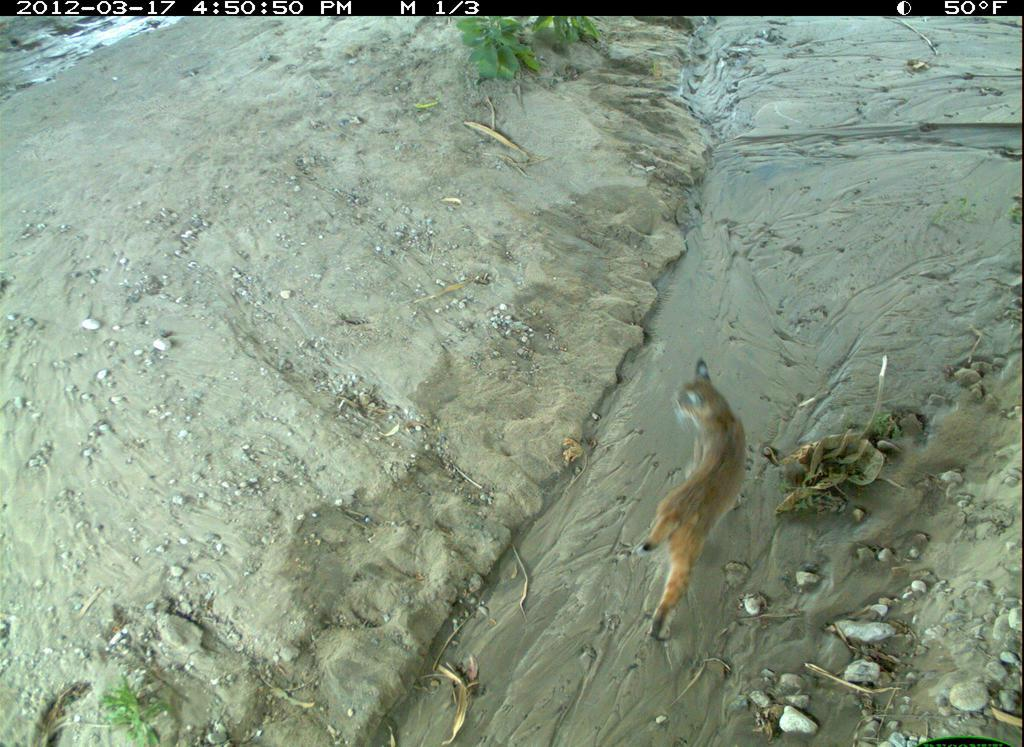bobcat: (628, 353, 756, 635)
